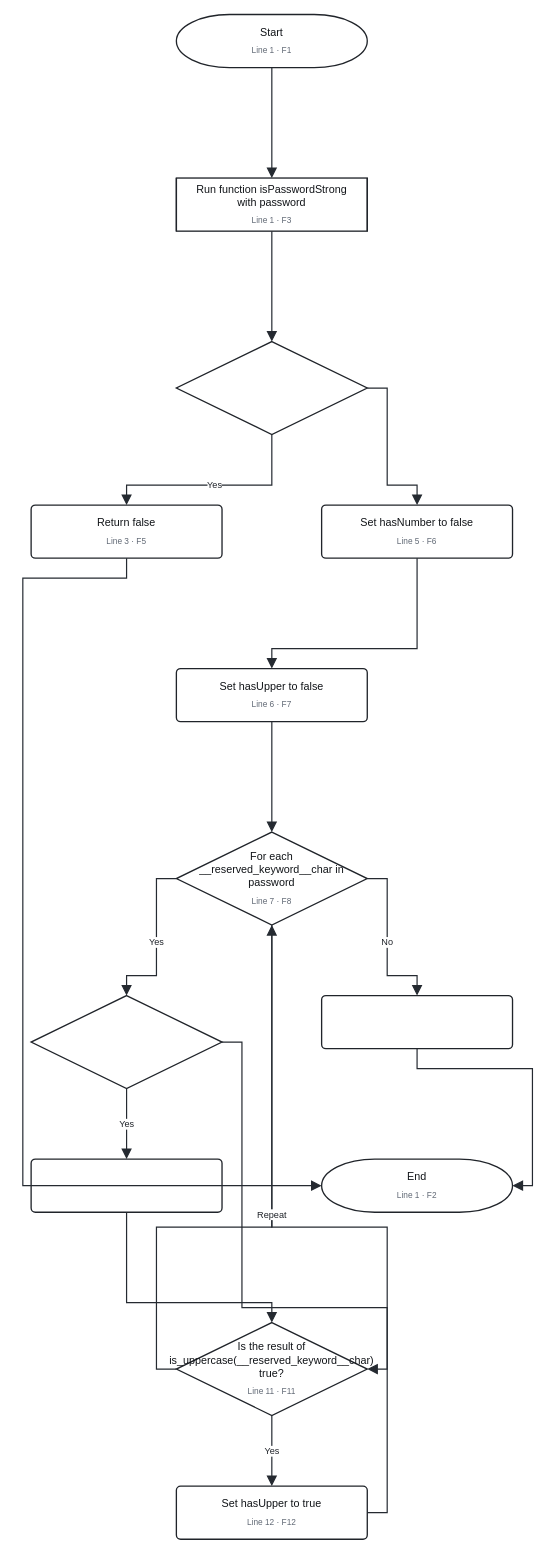
Some shapes in this 557 by 1555 pixel diagram are drawn without their labels. The box of each missing label's shape, as (x1, y1, x2, y2) in pixels:
Is the result of is_digit(__reserved_keyword__char) true? Line 8 · F9: (30, 995, 222, 1089)
Return hasNumber and hasUpper Line 15 · F13: (321, 995, 513, 1049)
Set hasNumber to true Line 9 · F10: (30, 1158, 222, 1212)
The length of password is less than 8? Line 2 · F4: (175, 340, 368, 435)
